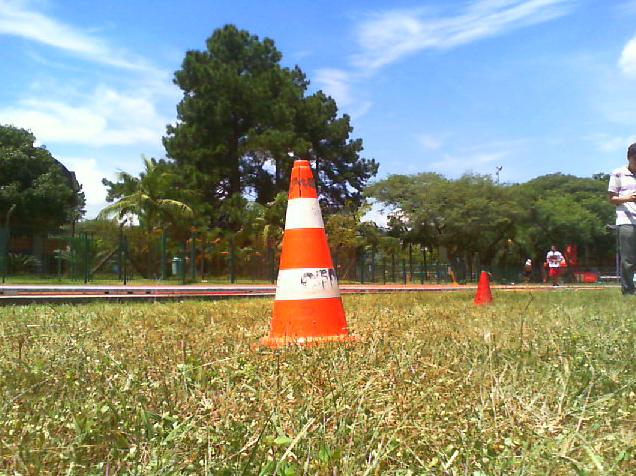0 cone: (265, 160, 348, 349), (475, 271, 493, 304)
